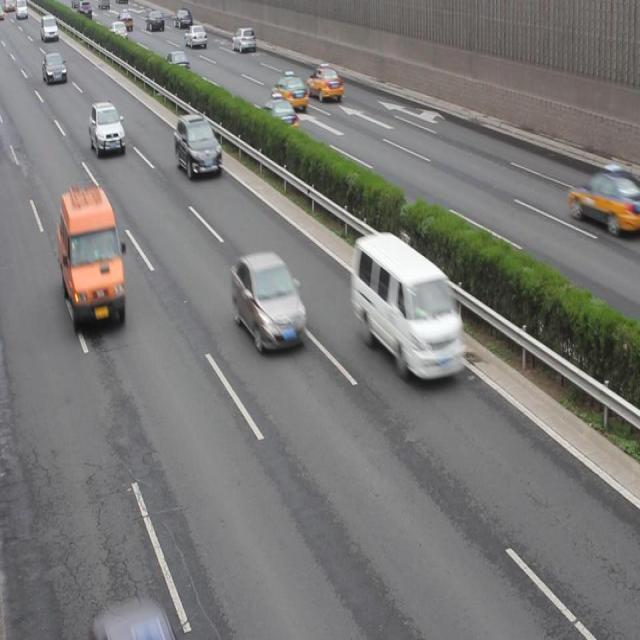car: (231, 254, 305, 350), (567, 162, 640, 233), (175, 115, 220, 175), (90, 101, 126, 154), (260, 93, 298, 131), (306, 64, 343, 102), (271, 71, 307, 109), (42, 55, 67, 85), (164, 52, 189, 76), (232, 26, 255, 52), (185, 26, 207, 46), (173, 10, 193, 30)
truck: (352, 234, 464, 382), (59, 187, 125, 331)
